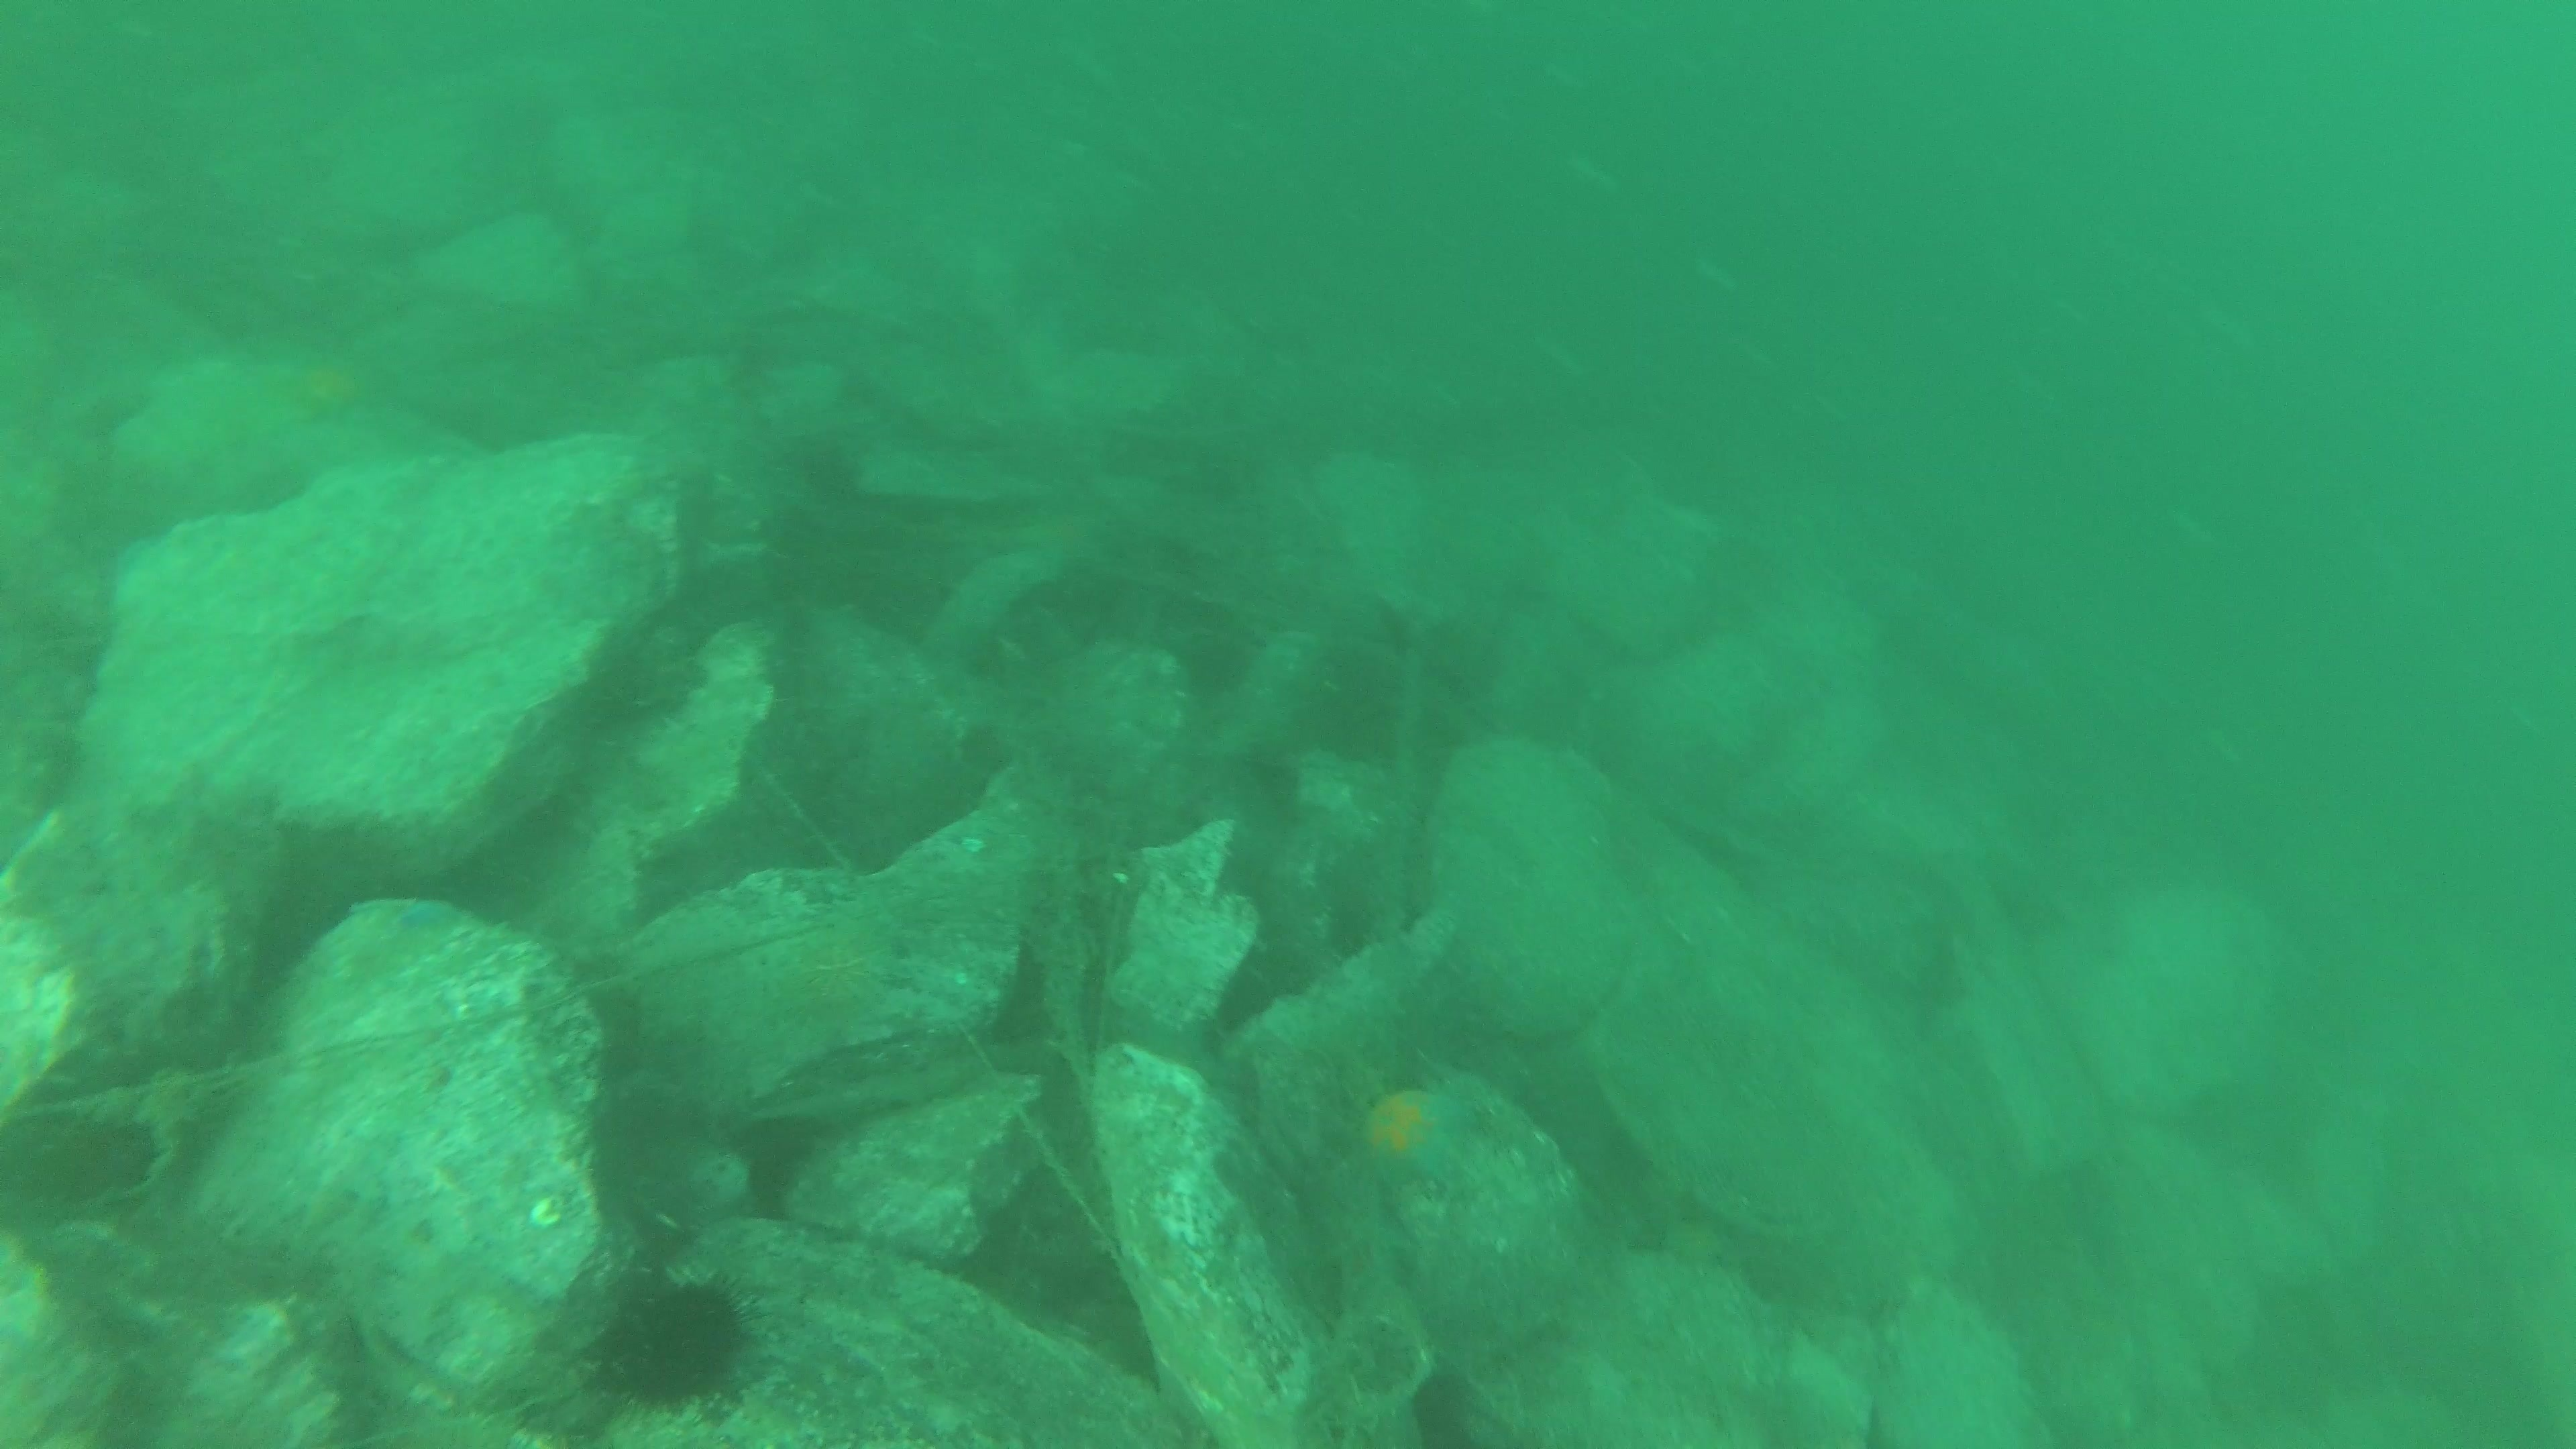echinus: (586, 1265, 761, 1415)
starfish: (1341, 1070, 1483, 1200), (267, 341, 377, 430)
